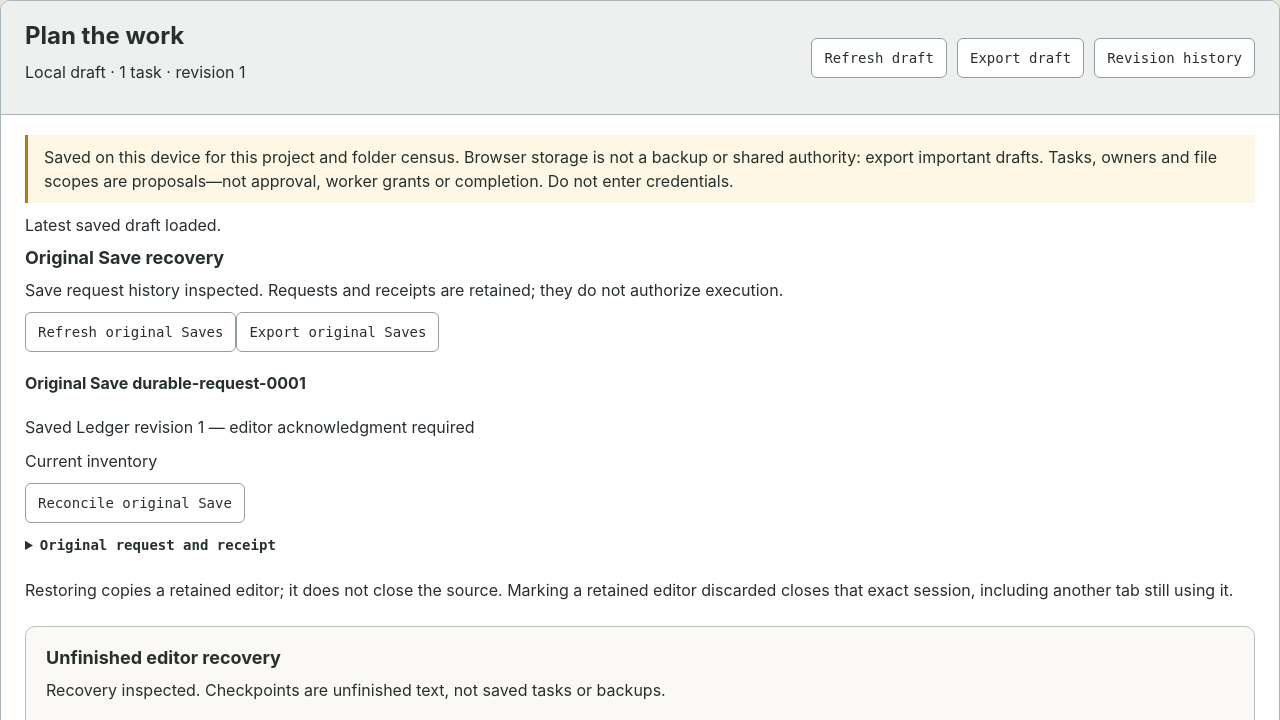
fresh screen reconciles committed original without submitting duplicate task
Click the button "Reconcile original Save".
click(135, 502)  # box [25, 482, 245, 522]
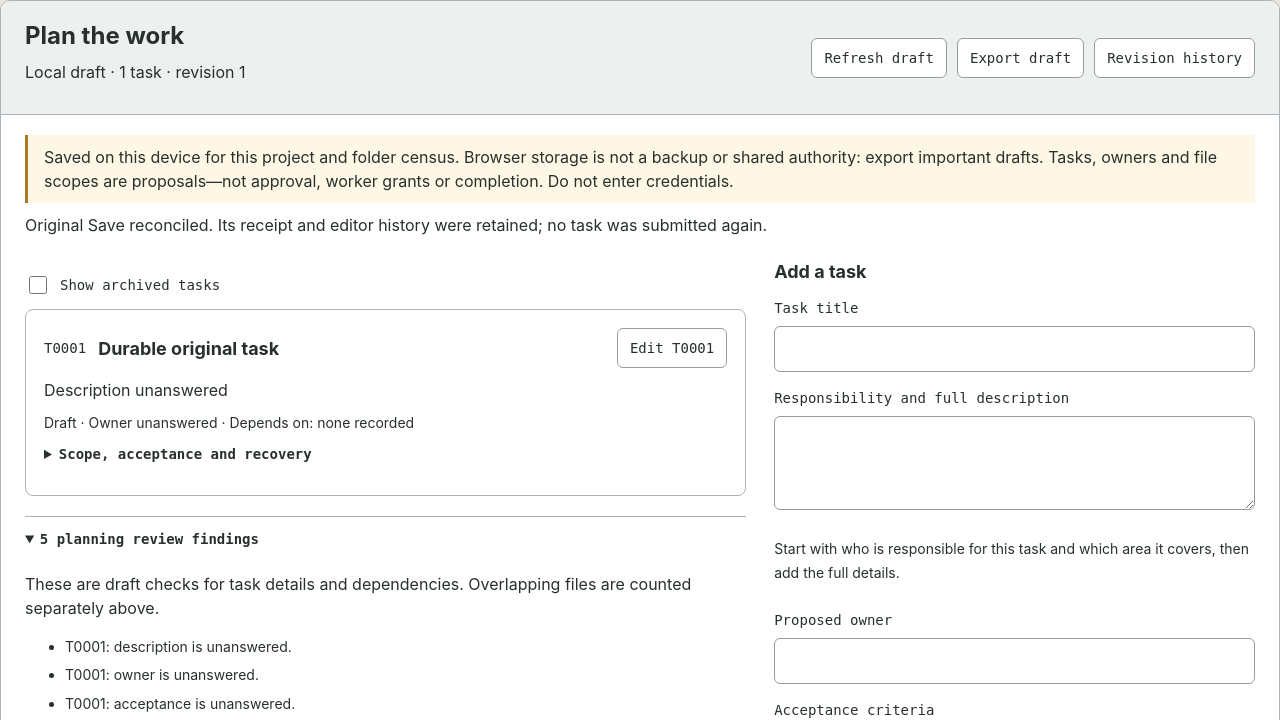
Now the text "Original Save reconciled" is shown, box [25, 215, 767, 235]
